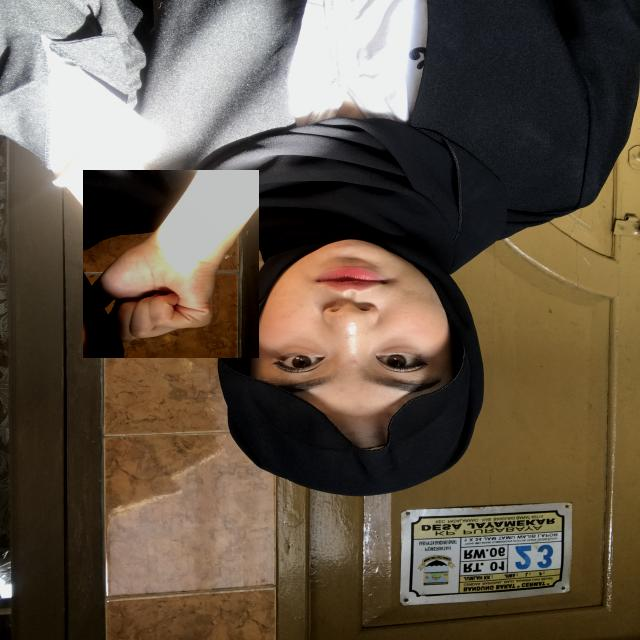ibu: (83, 170, 259, 358)
